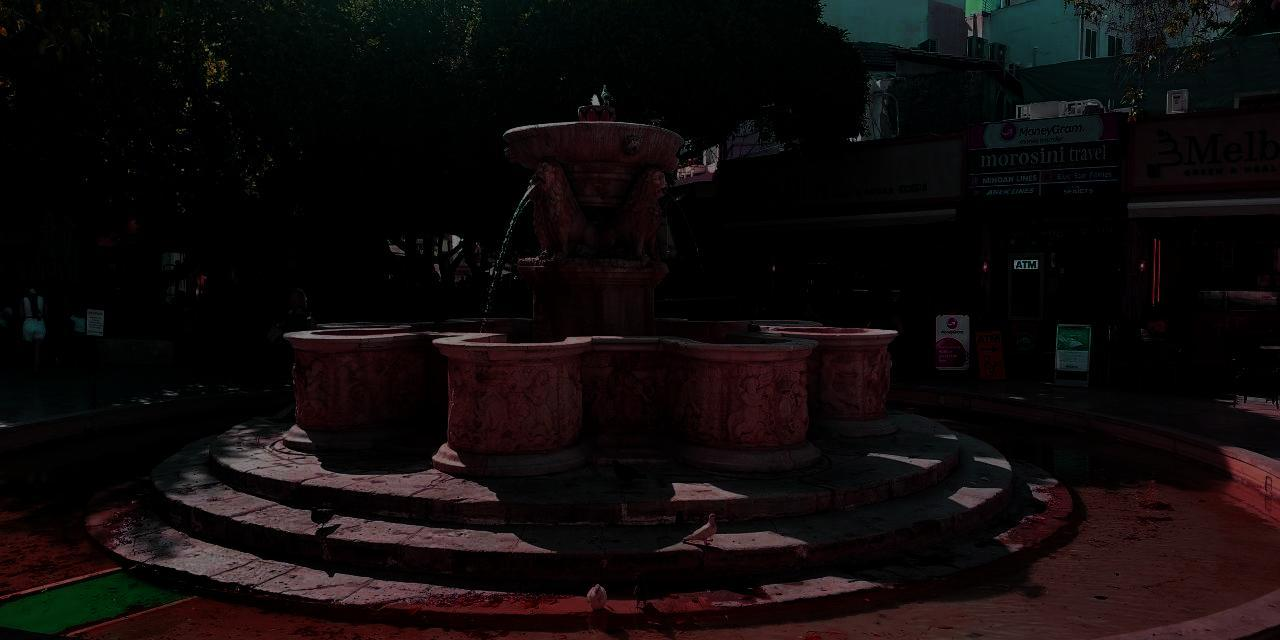Liontaria: (285, 108, 899, 472)
